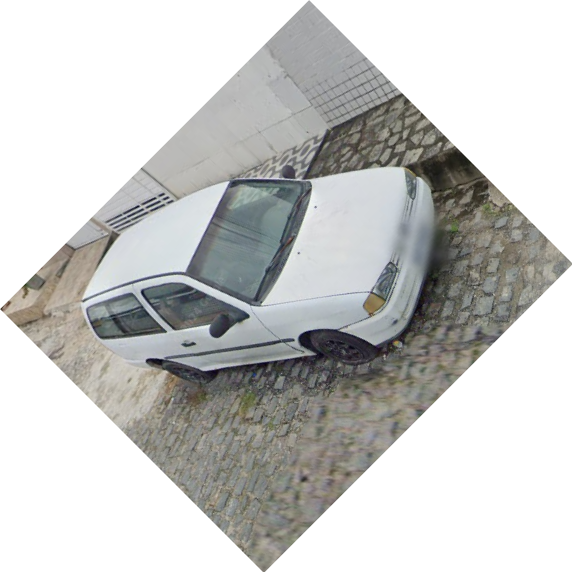car: (78, 165, 435, 388)
